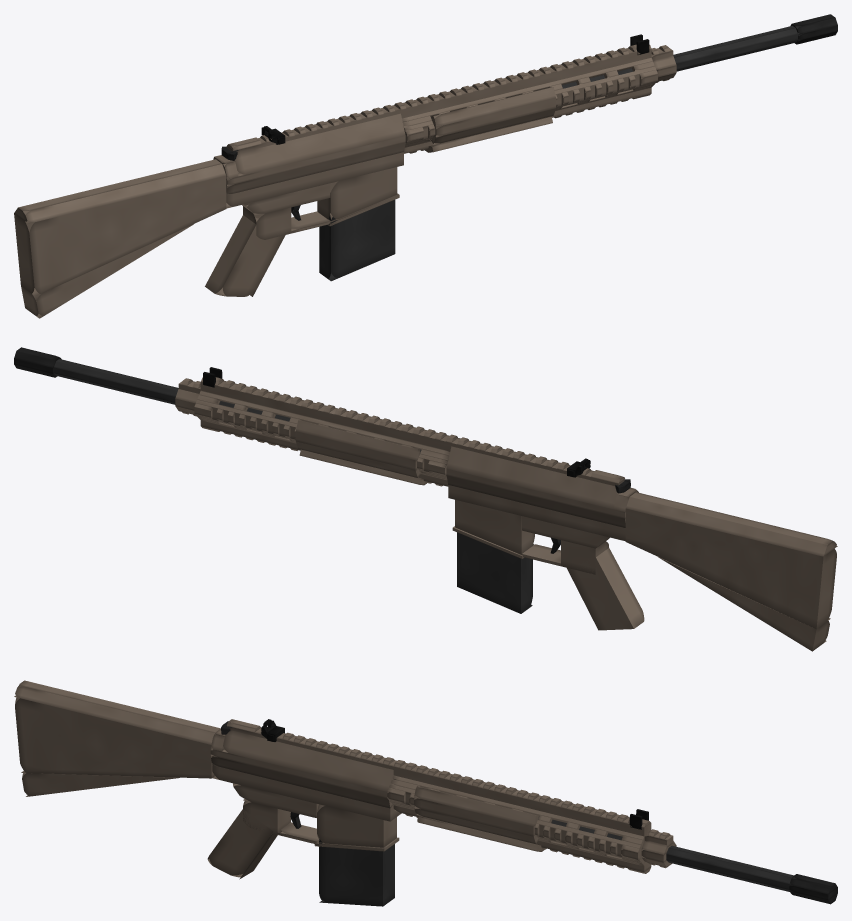
3 renders of one model, top to bottom at view 1: azimuth 30°, elevation 25°; view 2: azimuth 150°, elevation 25°; view 3: azimuth 330°, elevation 25°, orthographic.
Parts seen in each view (by area): view 1: defaultStockModel1, ammoModel0, gunModel4, defaultStockModel0, gunModel0, defaultGripModel0, gunModel16, gunModel15, defaultStockModel2, gunModel13, gunModel31, defaultBarrelModel0 (+11 smaller); view 2: defaultStockModel1, ammoModel0, gunModel5, defaultStockModel0, gunModel0, defaultGripModel0, gunModel16, gunModel15, defaultStockModel2, gunModel14, gunModel30, defaultBarrelModel0 (+11 smaller); view 3: defaultStockModel1, ammoModel0, gunModel4, gunModel0, defaultStockModel0, defaultGripModel0, gunModel15, gunModel16, defaultStockModel2, gunModel13, gunModel31, defaultBarrelModel0 (+13 smaller).
Boxes of the visible parts, <box> form: defaultStockModel1: <box>14,175,226,296</box>; ammoModel0: <box>319,200,395,281</box>; gunModel4: <box>234,113,405,174</box>; defaultStockModel0: <box>14,159,225,223</box>; gunModel0: <box>226,48,651,153</box>; defaultGripModel0: <box>205,215,286,296</box>; gunModel16: <box>317,167,397,222</box>; gunModel15: <box>226,152,403,208</box>; defaultStockModel2: <box>21,224,193,318</box>; gunModel13: <box>226,142,405,193</box>; gunModel31: <box>431,87,555,127</box>; defaultBarrelModel0: <box>431,25,800,117</box>; defaultStockModel1: <box>625,508,836,629</box>; ammoModel0: <box>457,532,532,613</box>; gunModel5: <box>446,446,617,509</box>; defaultStockModel0: <box>626,492,837,556</box>; gunModel0: <box>200,381,624,485</box>; defaultGripModel0: <box>567,548,644,630</box>; gunModel16: <box>455,499,534,554</box>; gunModel15: <box>448,485,625,541</box>; defaultStockModel2: <box>658,557,829,651</box>; gunModel14: <box>446,475,625,527</box>; gunModel30: <box>296,420,420,460</box>; defaultBarrelModel0: <box>54,359,421,453</box>; defaultStockModel1: <box>15,697,214,778</box>; ammoModel0: <box>319,839,394,906</box>; gunModel4: <box>222,730,393,791</box>; gunModel0: <box>227,726,651,836</box>; defaultStockModel0: <box>14,680,220,744</box>; defaultGripModel0: <box>207,809,277,879</box>; gunModel15: <box>212,756,401,821</box>; gunModel16: <box>317,804,396,847</box>; defaultStockModel2: <box>22,773,179,796</box>; gunModel13: <box>211,754,392,808</box>; gunModel31: <box>414,786,538,826</box>; defaultBarrelModel0: <box>538,817,796,884</box>.
Size of the model in its own units: 29.15 by 5.6 by 1.4.
